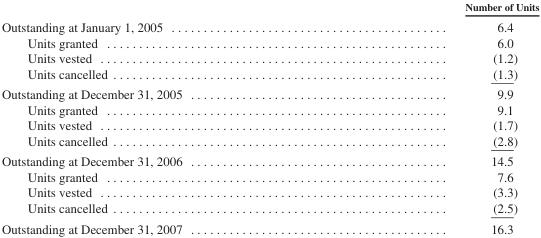table: (0, 0, 538, 235)
table column: (0, 0, 323, 235), (323, 0, 538, 235)
table column header: (0, 0, 538, 16)
table row: (0, 16, 538, 34), (0, 65, 538, 83), (0, 83, 538, 101), (0, 132, 538, 150), (0, 150, 538, 168), (0, 199, 538, 217), (0, 217, 538, 235), (0, 0, 538, 16), (0, 49, 538, 65), (0, 101, 538, 117), (0, 168, 538, 184), (0, 34, 538, 49), (0, 117, 538, 132), (0, 184, 538, 199)
